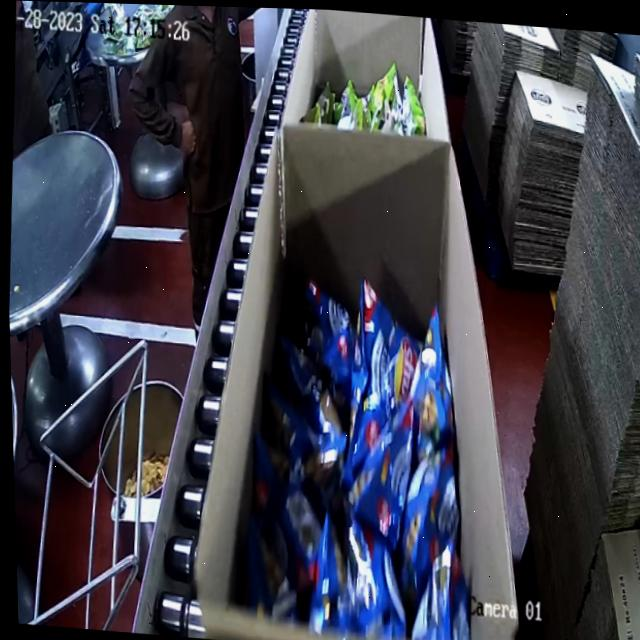PAPRIKA: (240, 257, 506, 640)
